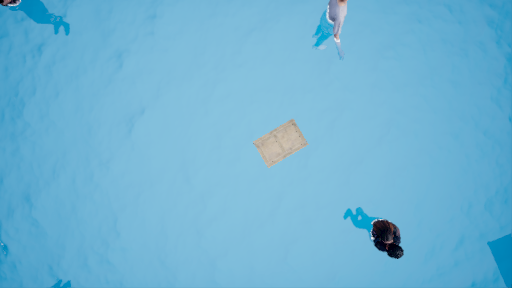person: (340, 201, 421, 261), (310, 1, 358, 63)
